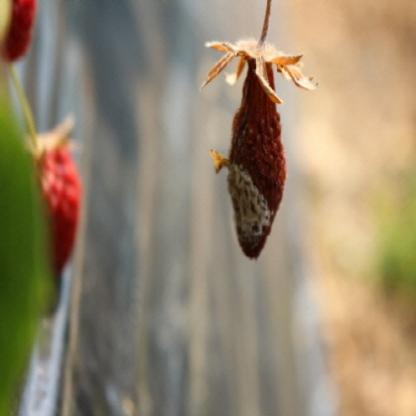Strawberry_Gray_Mold: (198, 36, 318, 260)
